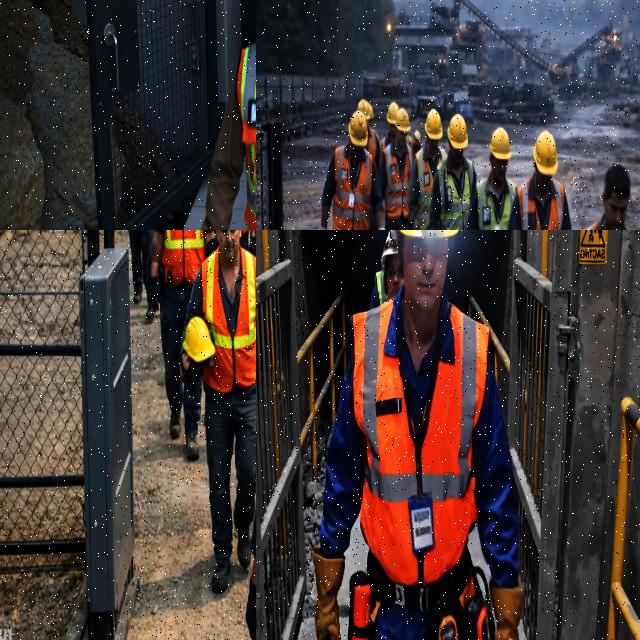Vest: (352, 301, 417, 585), (201, 248, 255, 392), (332, 145, 372, 229), (237, 44, 255, 229), (437, 159, 473, 229), (162, 230, 205, 285), (382, 144, 410, 220), (476, 178, 515, 229), (415, 148, 432, 229), (517, 177, 541, 229), (586, 220, 600, 229), (241, 230, 248, 235)
Worker: (313, 230, 522, 639), (181, 230, 255, 592), (148, 230, 216, 460), (201, 44, 255, 229), (321, 111, 384, 229), (508, 131, 570, 229), (429, 114, 475, 229), (467, 127, 515, 229), (409, 109, 446, 229), (379, 108, 411, 229), (584, 165, 630, 229), (357, 99, 380, 166), (128, 230, 147, 304), (246, 511, 255, 639), (138, 230, 152, 286), (240, 230, 255, 248), (252, 237, 255, 255)
helmet: (183, 316, 214, 363), (533, 131, 557, 176), (447, 114, 467, 150), (489, 127, 510, 160), (348, 111, 367, 147), (424, 109, 441, 140), (399, 230, 458, 237), (395, 108, 410, 133), (386, 102, 398, 125), (357, 99, 369, 120)
